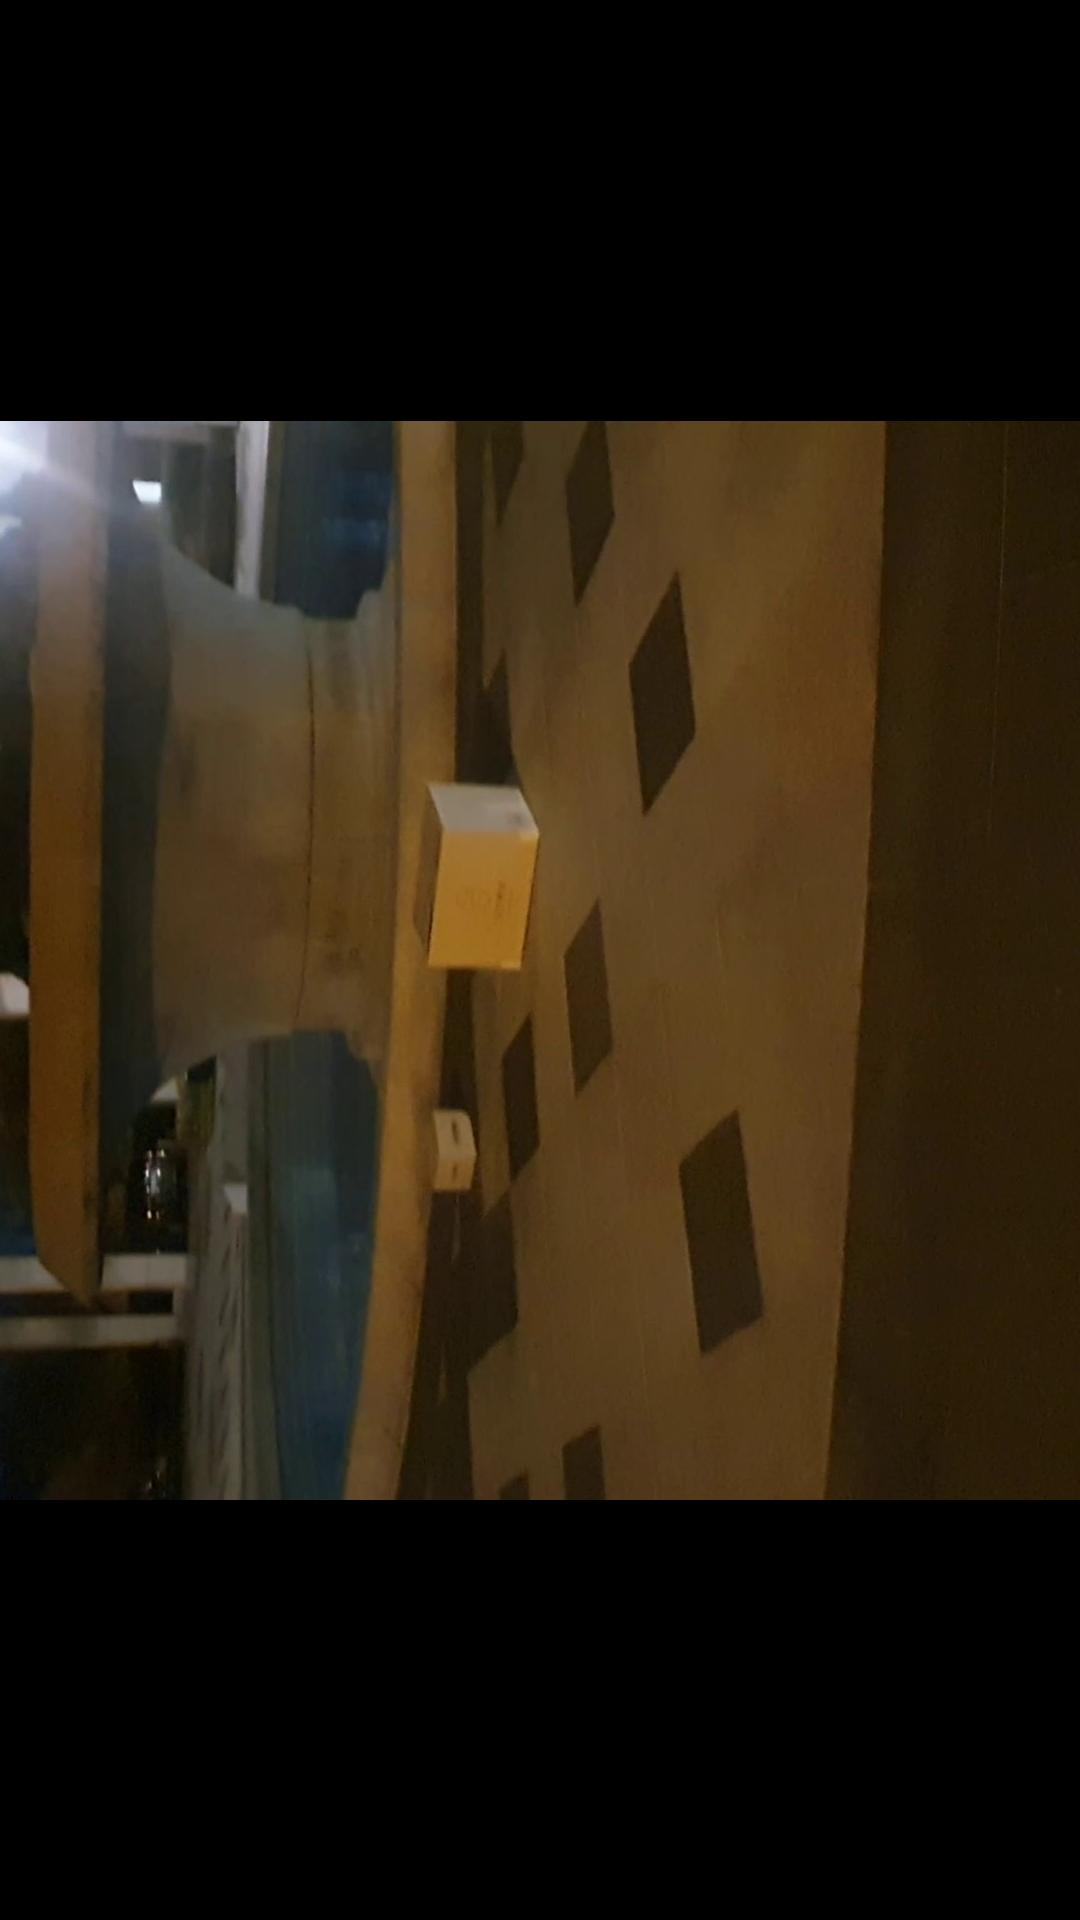Box: (396, 789, 541, 967), (415, 1105, 487, 1209)
